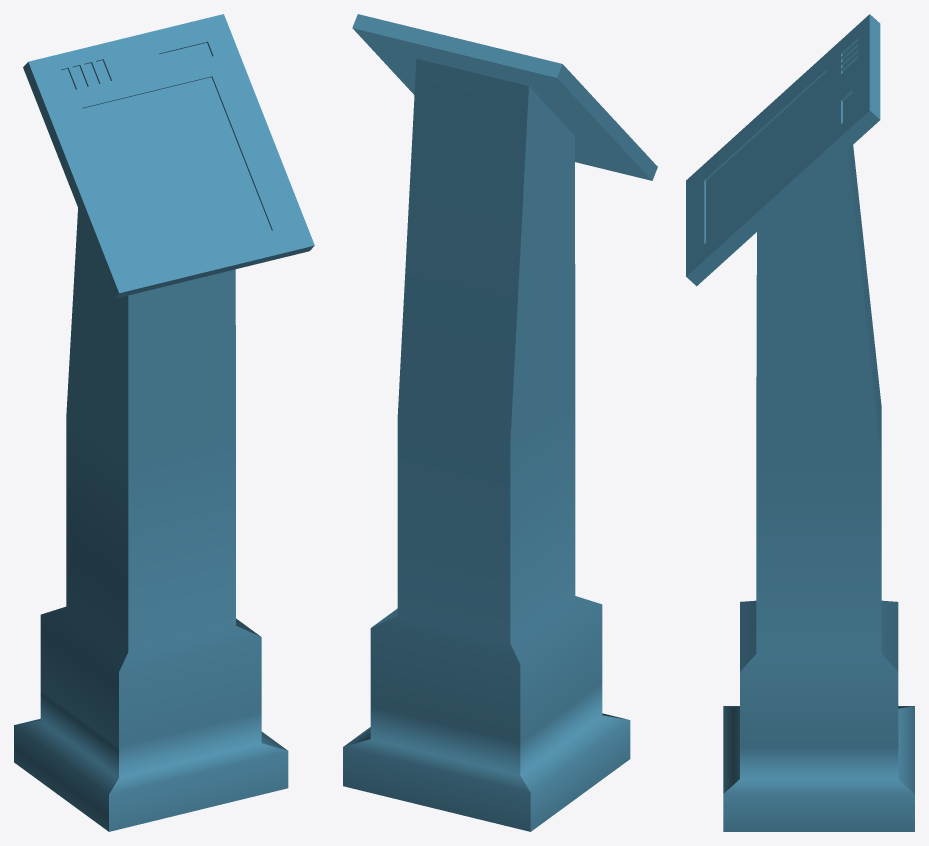
The model's file is HandPassword.fbx.
3 renders of one model, left to right at view 1: azimuth 30°, elevation 25°; view 2: azimuth 150°, elevation 25°; view 3: azimuth 270°, elevation 25°, orthographic. The views are drawn at different scales.
Parts seen in each view (by area): view 1: pCube105, pCube100, pCube101; view 2: pCube105, pCube100; view 3: pCube105, pCube100, pCube101.
Boxes of the visible parts, <box> form: pCube105: <box>14,208,288,831</box>; pCube100: <box>23,14,314,298</box>; pCube101: <box>82,77,271,261</box>; pCube105: <box>343,58,630,831</box>; pCube100: <box>352,14,657,180</box>; pCube105: <box>723,145,914,831</box>; pCube100: <box>686,14,880,286</box>; pCube101: <box>706,72,826,242</box>.
Bounding box in the file's own units: 1.21 × 4.26 × 1.22.
